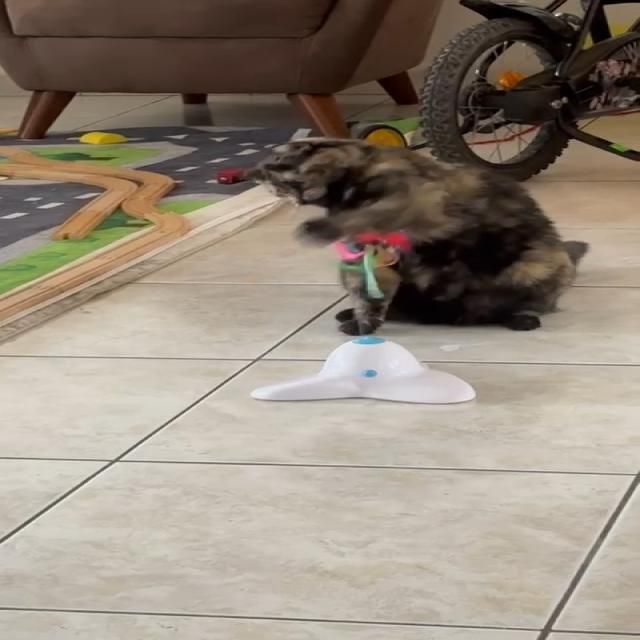authorized: (240, 135, 589, 336)
